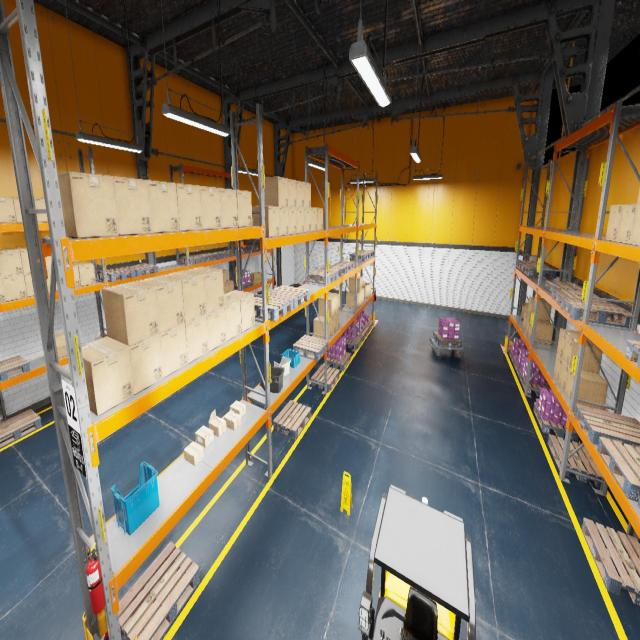box: (81, 337, 134, 416), (58, 171, 119, 238), (102, 282, 159, 346), (134, 276, 184, 333), (113, 176, 152, 235), (161, 271, 206, 322), (129, 334, 163, 394), (183, 267, 224, 313), (565, 367, 608, 410), (148, 180, 179, 233), (562, 334, 602, 374), (160, 323, 188, 377), (224, 290, 255, 332), (176, 183, 202, 231), (185, 314, 208, 363), (200, 186, 221, 230), (206, 306, 226, 352), (557, 328, 587, 358), (252, 206, 279, 237), (617, 204, 637, 243), (219, 188, 238, 228), (224, 296, 241, 340), (264, 176, 288, 206), (528, 318, 554, 344), (2, 274, 27, 301), (605, 205, 623, 241), (0, 248, 23, 276), (13, 197, 37, 222), (236, 190, 252, 227), (72, 262, 96, 286), (528, 297, 552, 320), (208, 409, 226, 437), (184, 441, 204, 466), (525, 315, 548, 336), (318, 294, 336, 318), (630, 204, 640, 246), (195, 426, 214, 448), (14, 247, 30, 273), (0, 196, 16, 222), (314, 316, 331, 340), (324, 292, 340, 314), (34, 198, 48, 222), (55, 331, 67, 358), (224, 411, 241, 430), (559, 360, 568, 392), (46, 270, 58, 292), (279, 207, 288, 236), (230, 401, 246, 417), (24, 272, 34, 297), (554, 352, 562, 383), (346, 291, 359, 309), (288, 178, 296, 207), (296, 180, 304, 207), (288, 207, 296, 234), (349, 276, 362, 292), (296, 208, 304, 234), (304, 182, 311, 207), (304, 208, 311, 232), (73, 264, 80, 288), (520, 302, 528, 321), (0, 277, 6, 302), (317, 208, 323, 231), (311, 208, 317, 231), (362, 283, 371, 298), (353, 291, 362, 306), (250, 272, 261, 284), (45, 256, 51, 270), (523, 311, 527, 331), (332, 315, 336, 335), (222, 270, 228, 283), (228, 280, 234, 292), (336, 311, 339, 331), (637, 187, 640, 204), (224, 283, 228, 293), (362, 288, 364, 303), (0, 266, 2, 276)
forklift: (358, 484, 476, 640)
pallets: (118, 542, 199, 640), (581, 518, 640, 606), (574, 404, 640, 451), (548, 433, 602, 488), (597, 436, 640, 502), (561, 297, 631, 328), (534, 402, 580, 443), (0, 409, 42, 448), (273, 400, 311, 440), (254, 294, 294, 321), (552, 288, 608, 306), (269, 285, 309, 309), (293, 335, 328, 361), (0, 355, 30, 382), (520, 371, 552, 396), (311, 365, 339, 392), (98, 268, 136, 282), (305, 269, 338, 284), (544, 280, 582, 293), (522, 264, 557, 278), (327, 352, 351, 371), (625, 340, 640, 368), (434, 332, 462, 347), (124, 264, 158, 276), (318, 264, 346, 278), (516, 260, 548, 270), (346, 334, 363, 350), (179, 255, 205, 265), (333, 260, 354, 272), (195, 252, 220, 262), (350, 252, 370, 261), (213, 250, 235, 258), (357, 327, 369, 340), (509, 348, 518, 364), (359, 249, 375, 258), (234, 282, 252, 290), (514, 358, 520, 377), (364, 320, 373, 332), (243, 246, 260, 251), (638, 494, 640, 508)
